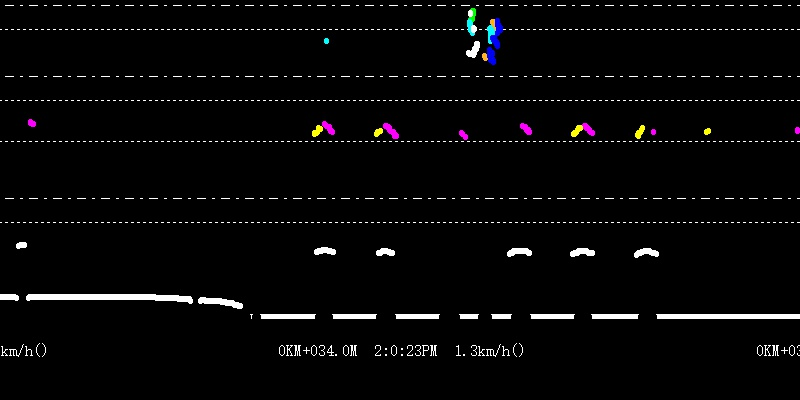J: (465, 2, 501, 67)
face_down: (320, 24, 330, 46)
